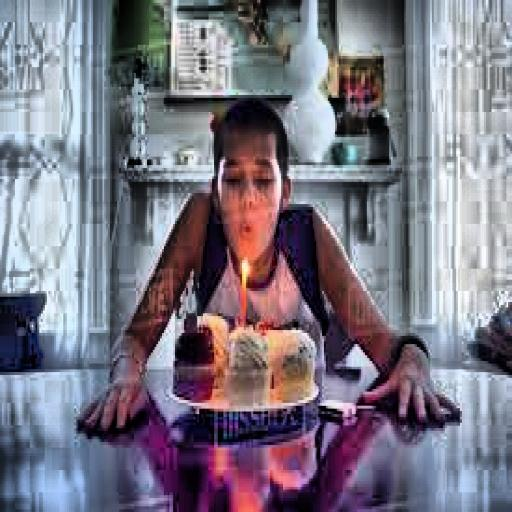fire: (236, 249, 252, 280)
